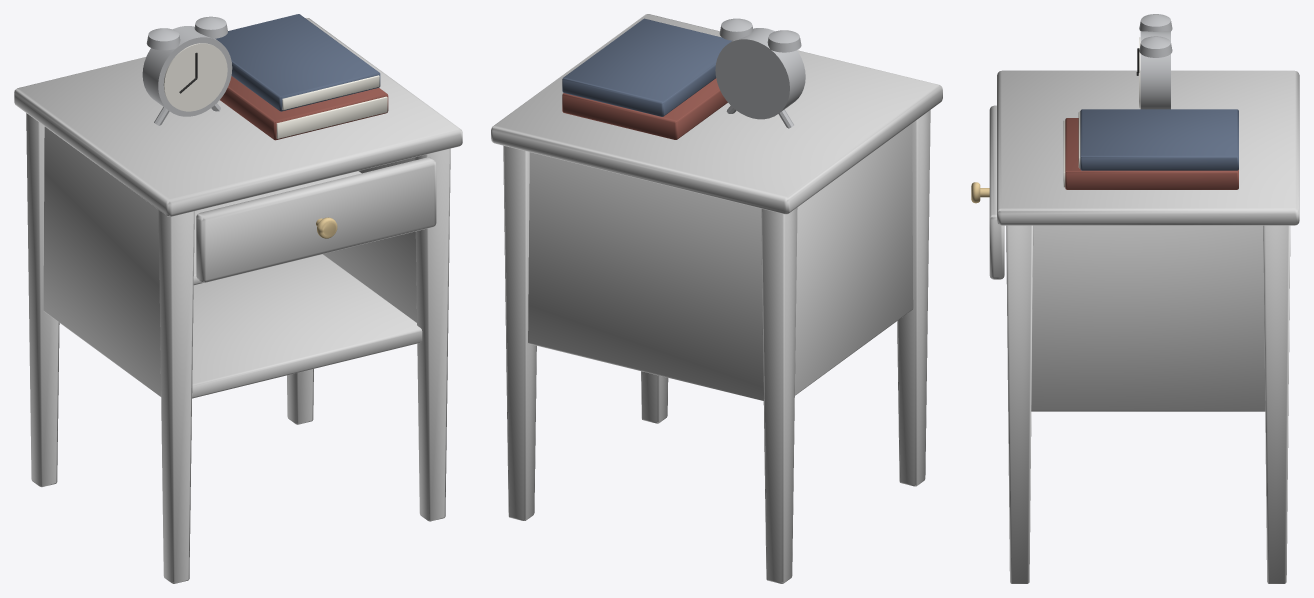
Rendered from Dim_Nightstand.fbx.
3 views of the same model, side by side, from view 1: azimuth 30°, elevation 25°; view 2: azimuth 150°, elevation 25°; view 3: azimuth 270°, elevation 25° (orthographic). The views are drawn at different scales.
Parts seen in each view (by area): view 1: Nightstand, Nightstand_Items; view 2: Nightstand, Nightstand_Items; view 3: Nightstand, Nightstand_Items.
Boxes of the visible parts, x1=… form: Nightstand: x1=14, y1=18, x2=462, y2=583; Nightstand_Items: x1=142, y1=14, x2=388, y2=140; Nightstand: x1=491, y1=14, x2=942, y2=583; Nightstand_Items: x1=562, y1=18, x2=805, y2=139; Nightstand: x1=971, y1=70, x2=1299, y2=583; Nightstand_Items: x1=1063, y1=14, x2=1238, y2=189.
Bounding box in the file's own units: 0.44 × 0.688 × 0.434.
